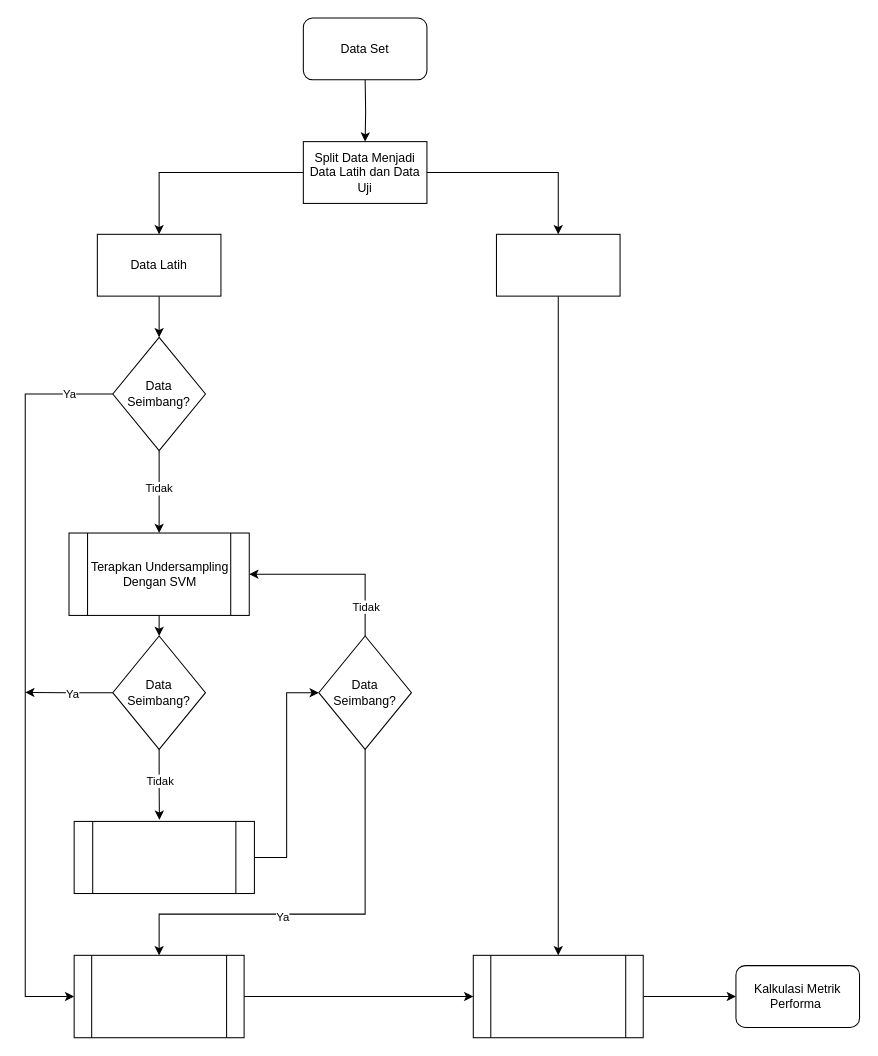
Some shapes in this 878 by 1056 pixel diagram are drawn without their labels. Each missing label, with the centre of its shape:
Data Uji: pixel 557 264
Pengujian Klasifikasi Dengan Data Uji: pixel 557 996
Terapkan Algoritma Klasifikasi Dengan Data Seimbang: pixel 158 996
Terapkan Oversampling Dengan ADASYN: pixel 163 857
